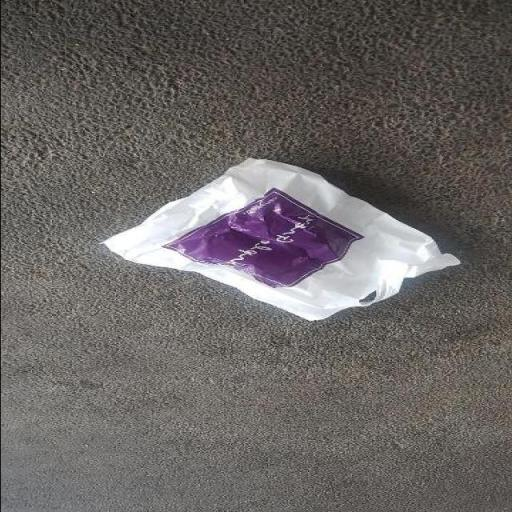plastic-bag: (97, 156, 460, 323)
